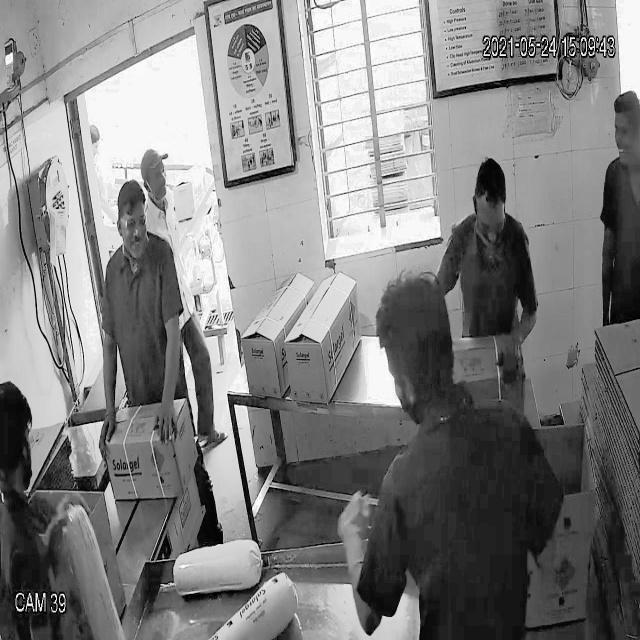Gafas: (112, 209, 151, 237)
